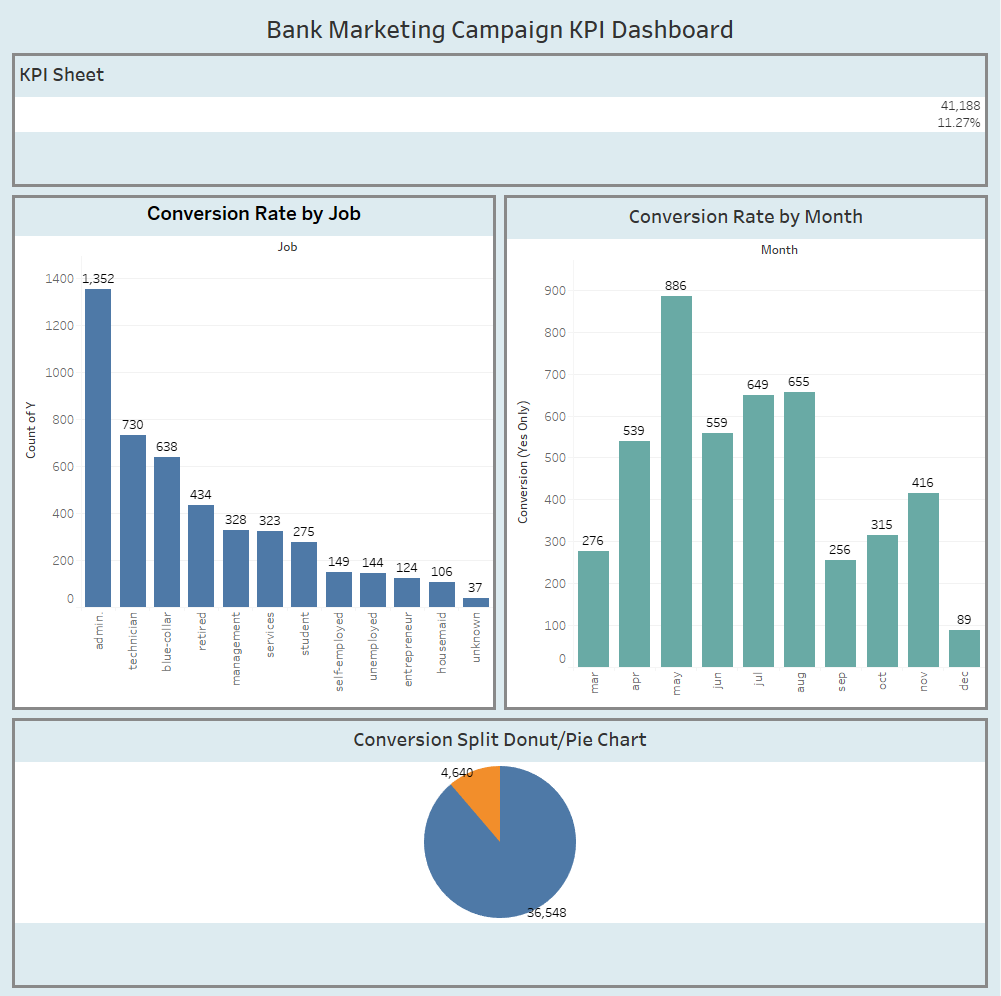

The page's visual inventory and layout, read from the dashboard file:
{"tool":"tableau","page":{"name":"Bank Marketing Campaign KPI Dashboard","canvas":[1000,1000],"ordinal":0},"visuals":[{"type":"title","box":[8,8,984,41]},{"type":"worksheet","title":"KPI Sheet","mark":"Automatic","box":[8,49,984,142.1]},{"type":"worksheet","title":"Conversion Rate by Job","mark":"Automatic","rows":["y"],"cols":["job"],"box":[8,191.1,492,522.9]},{"type":"worksheet","title":"Conversion Rate by Month","mark":"Automatic","rows":["Calculation_246853558499835908"],"cols":["month"],"box":[500,191.1,492,522.9]},{"type":"worksheet","title":"Conversion Split Donut/Pie Chart","mark":"Pie","box":[8,714,984,278]}]}

Visuals, with their boxes in screenshot pixels (x1, y1, x2, y2), scaled from the page's 1000x1000 canvas onto the 1001x996 screenshot:
title: 8:8:993:49
"KPI Sheet" worksheet: 8:49:993:190
"Conversion Rate by Job" worksheet: 8:190:500:711
"Conversion Rate by Month" worksheet: 500:190:993:711
"Conversion Split Donut/Pie Chart" worksheet (Pie marks): 8:711:993:988
